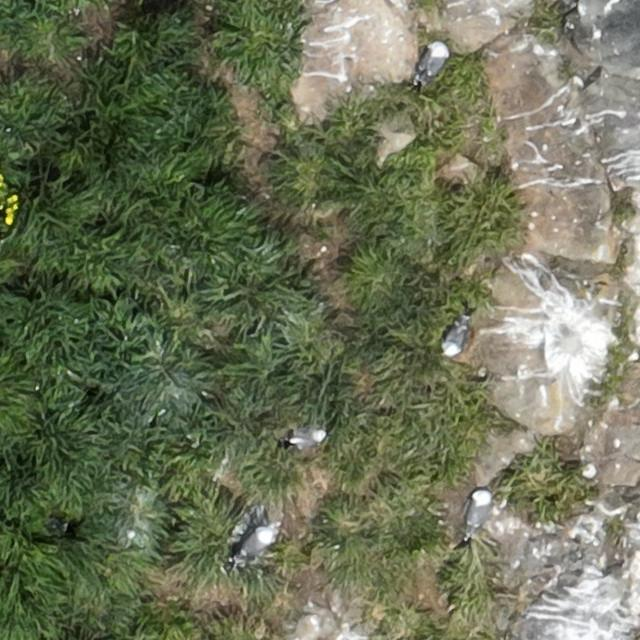umineko: (243, 528, 276, 557), (468, 494, 492, 532), (425, 43, 448, 76), (444, 322, 466, 354), (291, 428, 325, 446)
